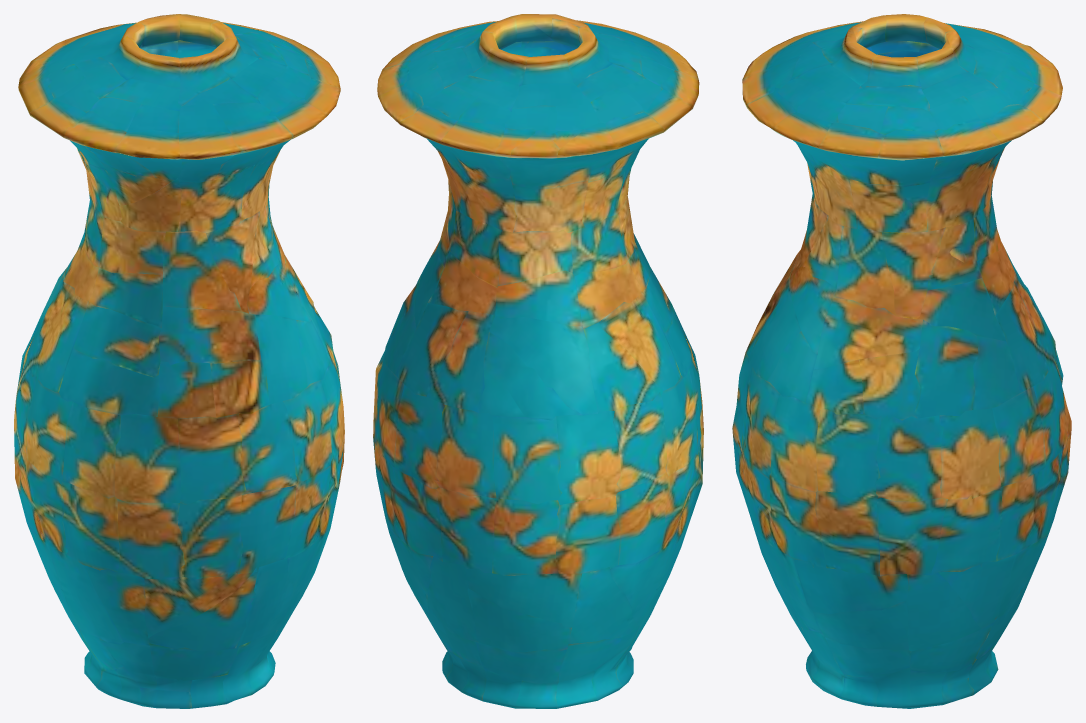
The model's file is pr_vase_celadon.glb.
3 renders of one model, left to right at view 1: azimuth 30°, elevation 25°; view 2: azimuth 150°, elevation 25°; view 3: azimuth 270°, elevation 25°, orthographic.
Bounding box in the file's own units: 0.9172 × 1.9 × 0.9223.
Materials: 1 (1 with a texture image).
